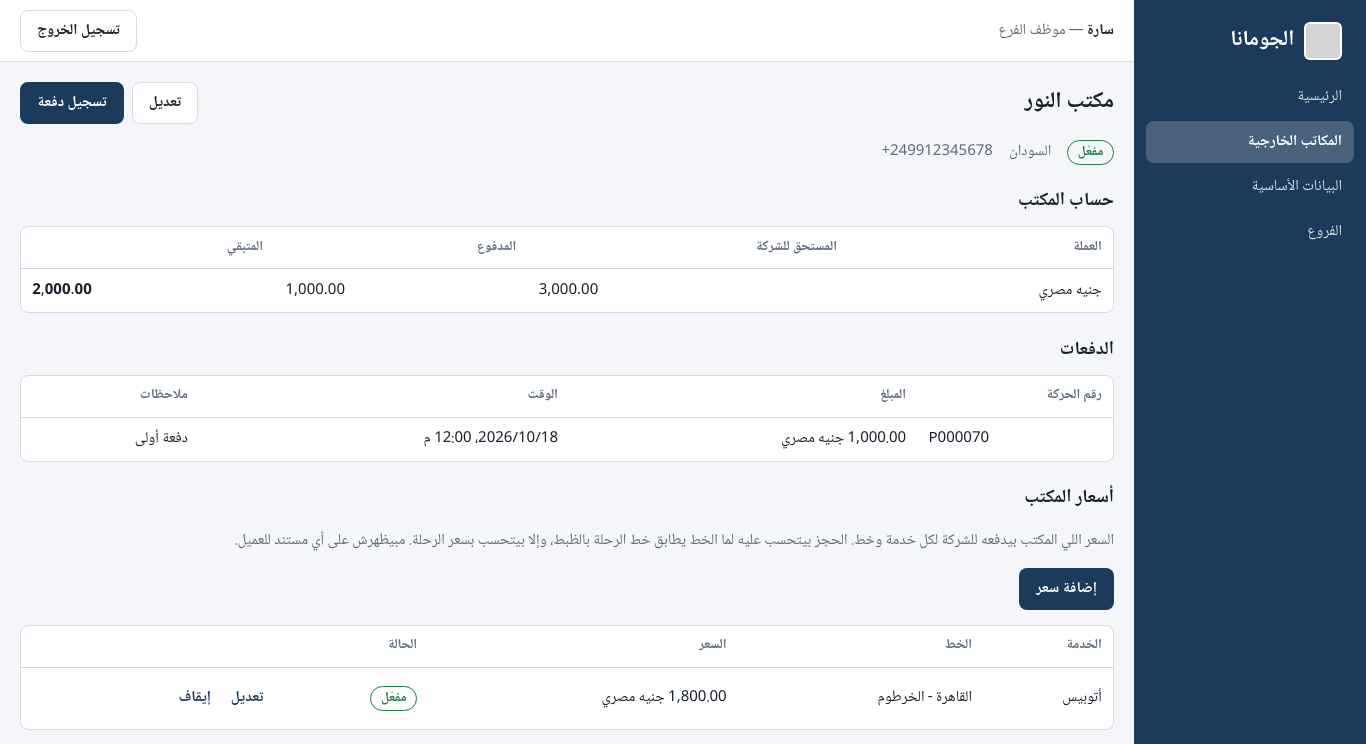
Scenario: agent file › adds a price for a service and route
Click the button "إضافة سعر". click: [1066, 589]
box: [1019,568,1114,610]
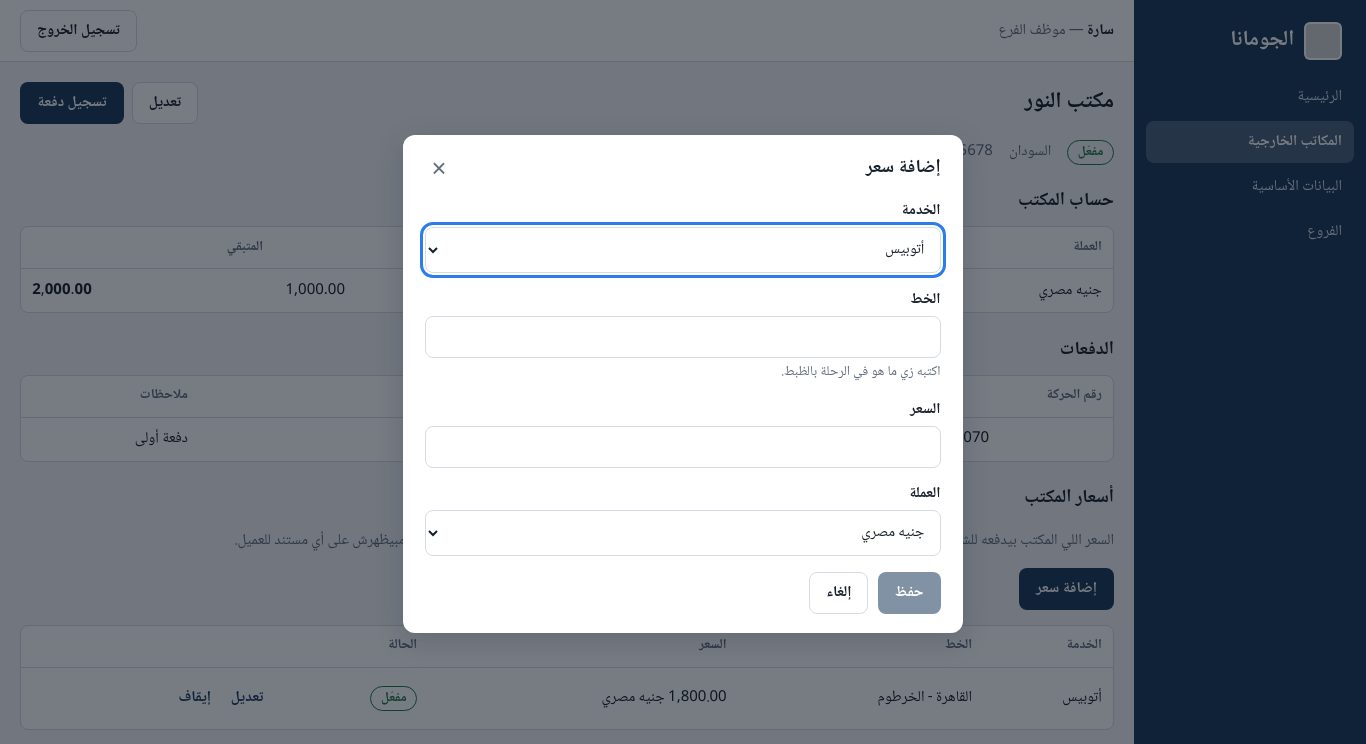
Select "طيران" in the dropdown labelled "الخدمة". click: [683, 250]
box: [425,227,941,273]
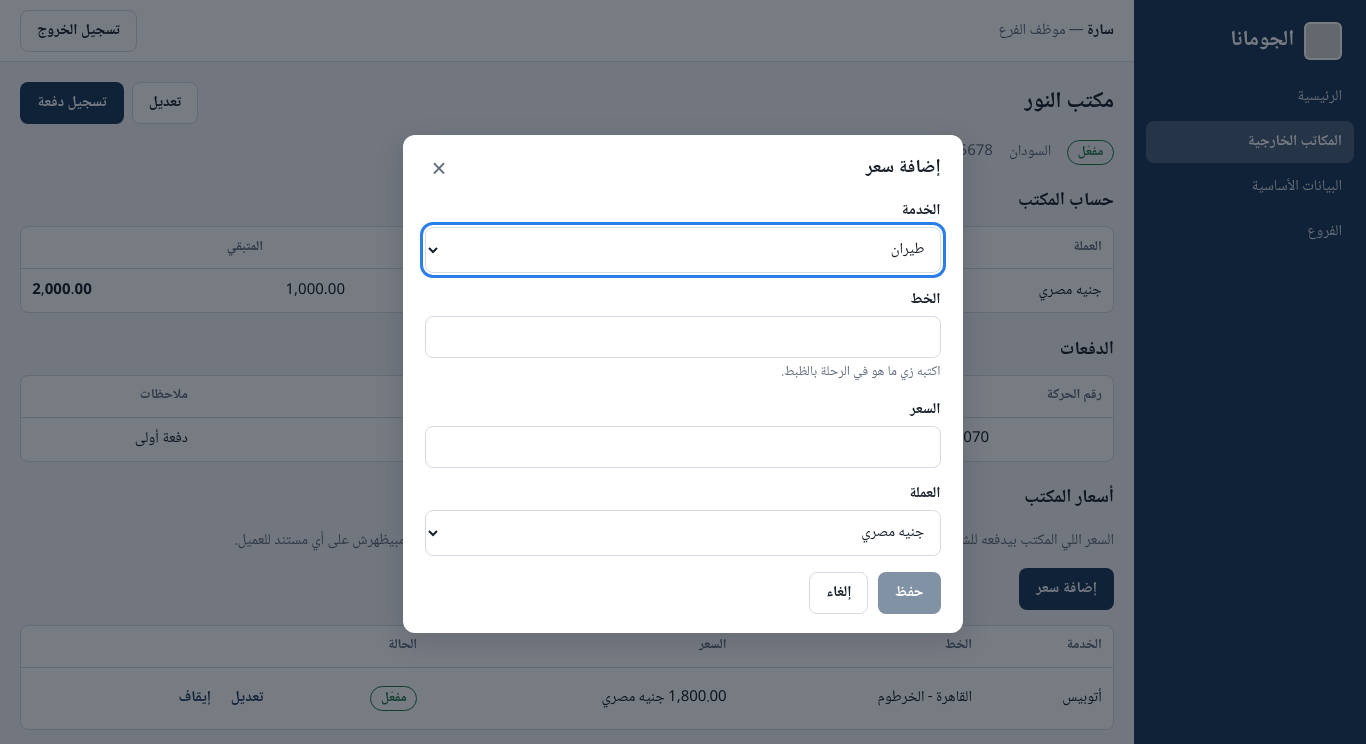
Type "القاهرة - جوبا" into the field labelled "الخط". click: [683, 337]
box: [425,316,941,358]
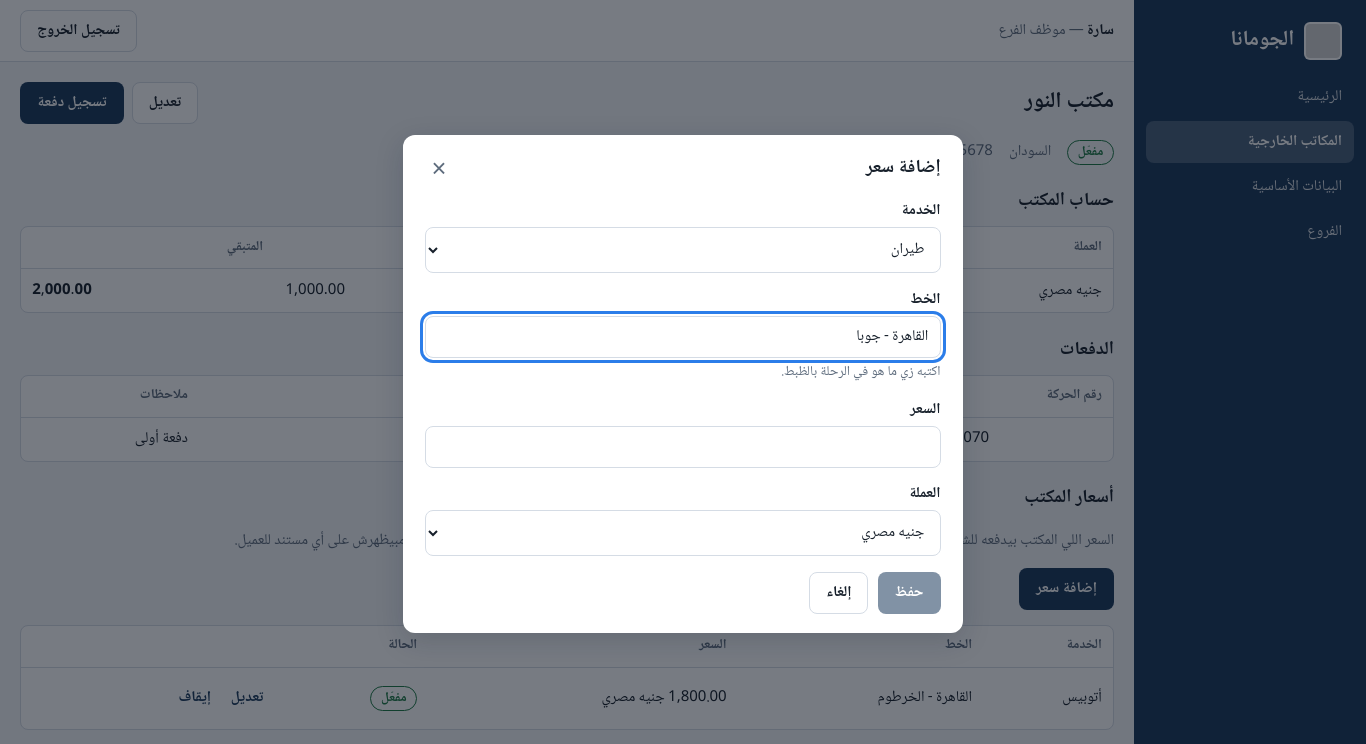
Type "220" into the field labelled "السعر". click: [683, 447]
box: [425,426,941,468]
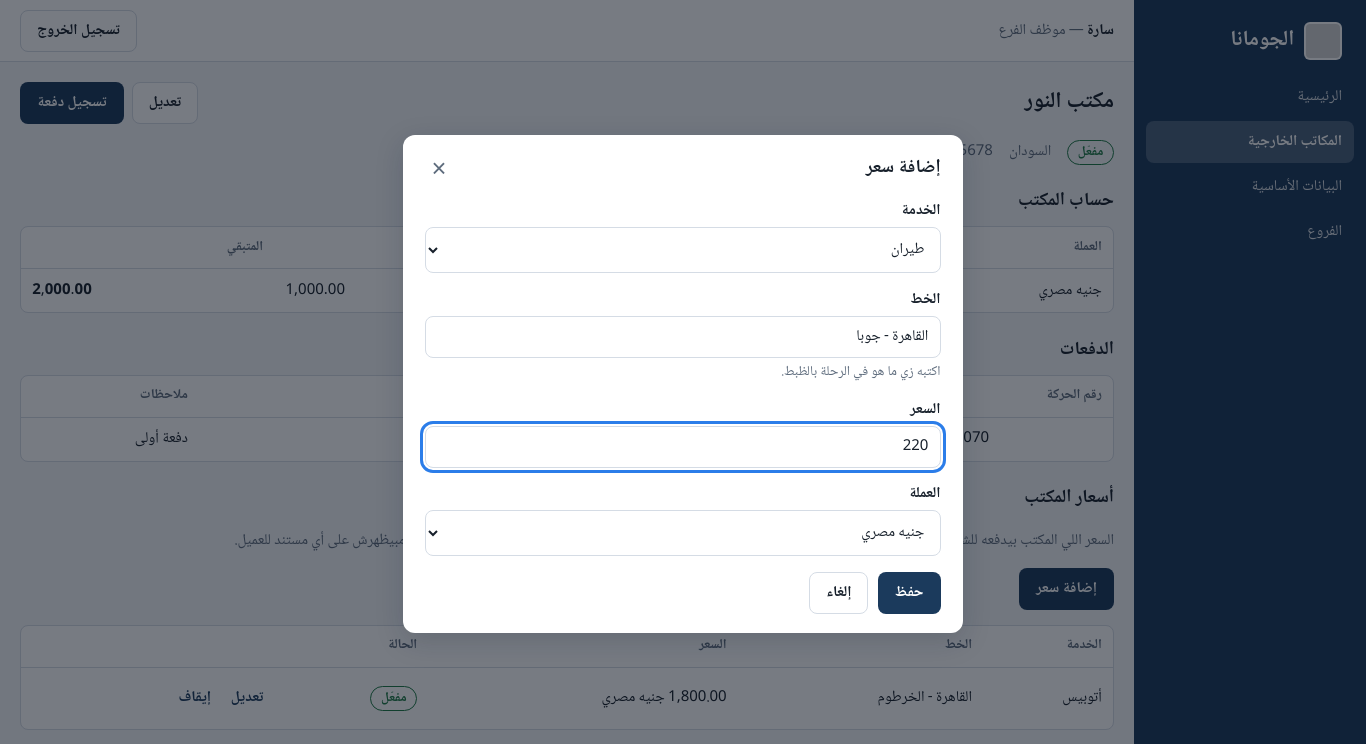
Click the button "حفظ". click: [909, 593]
box: [878,572,941,614]
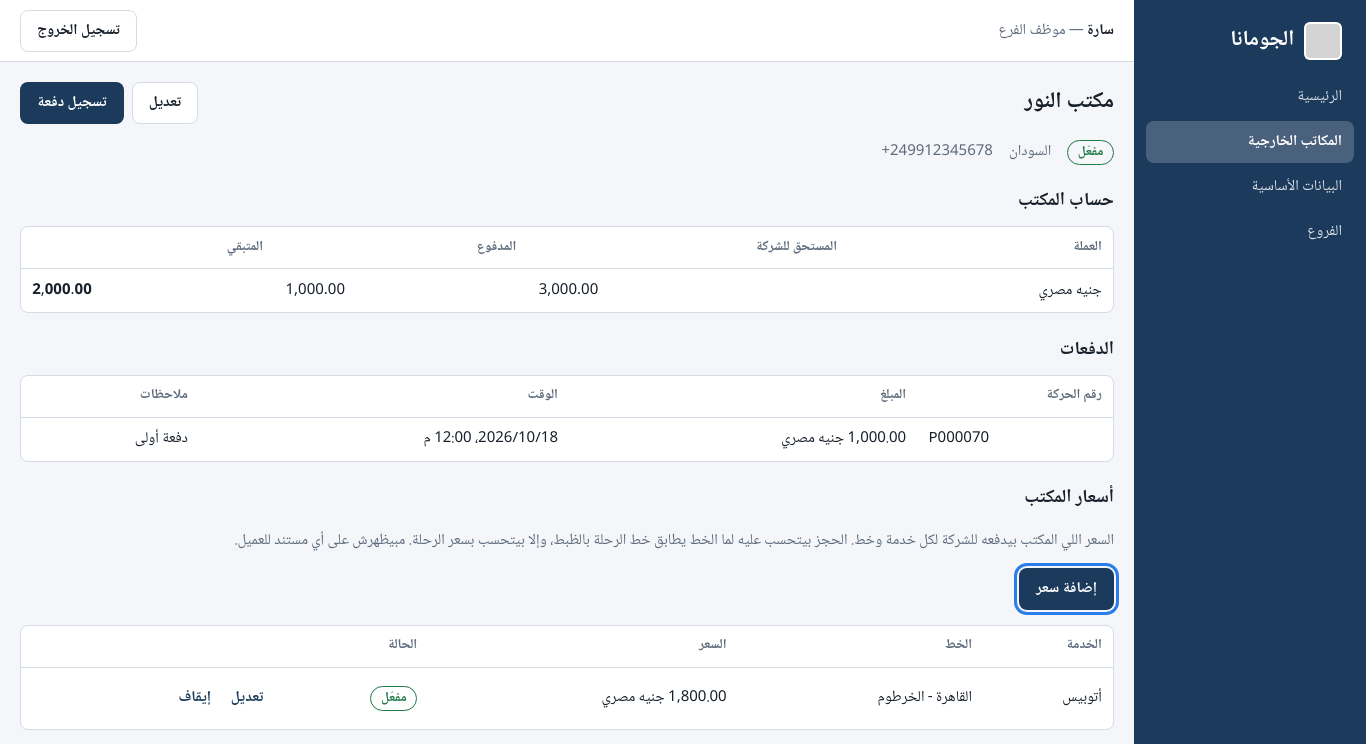
Check: the dialog is gone
